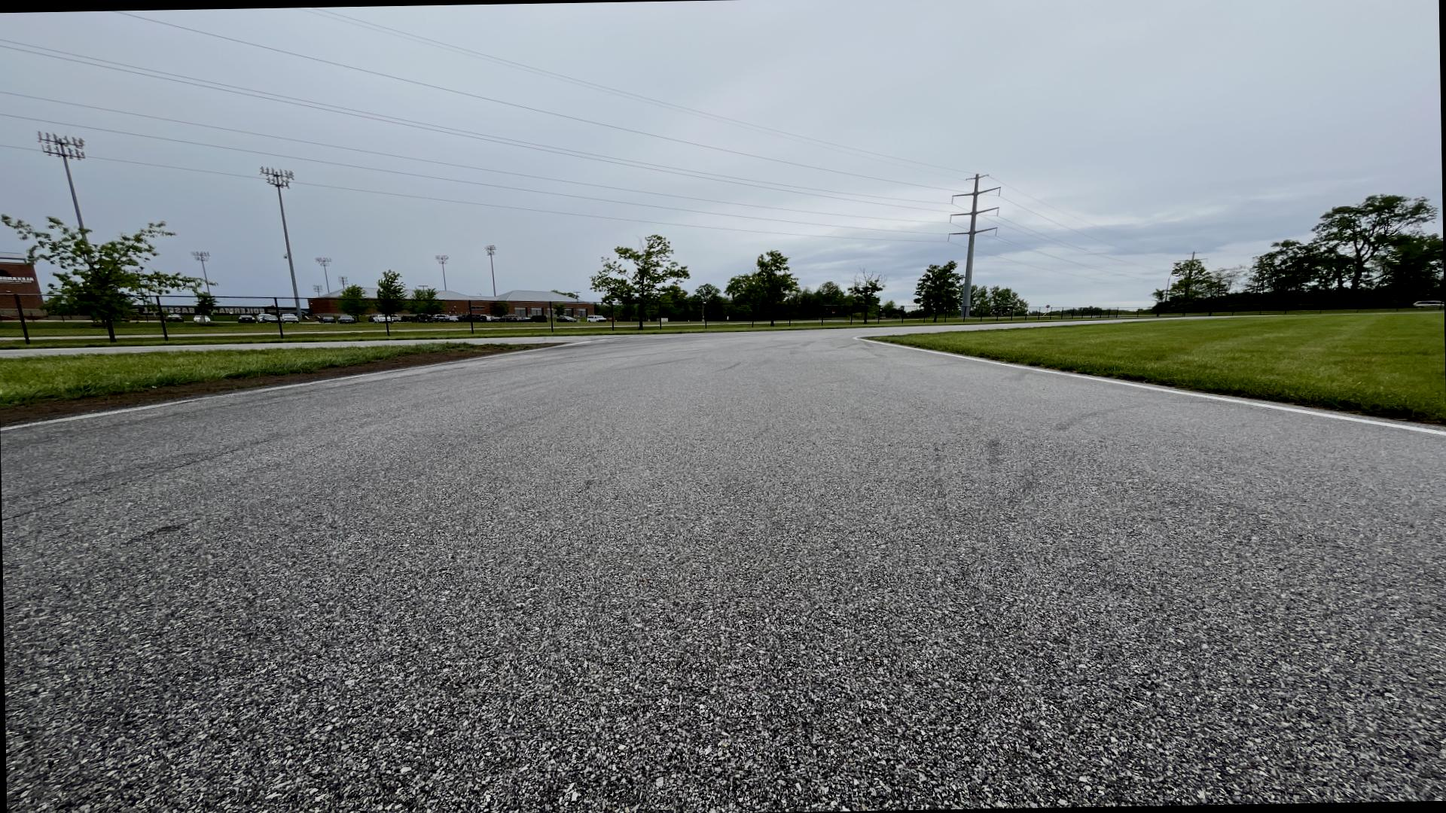white-line: (852, 334, 1445, 437), (0, 341, 593, 431), (679, 333, 724, 335), (598, 339, 607, 341)
